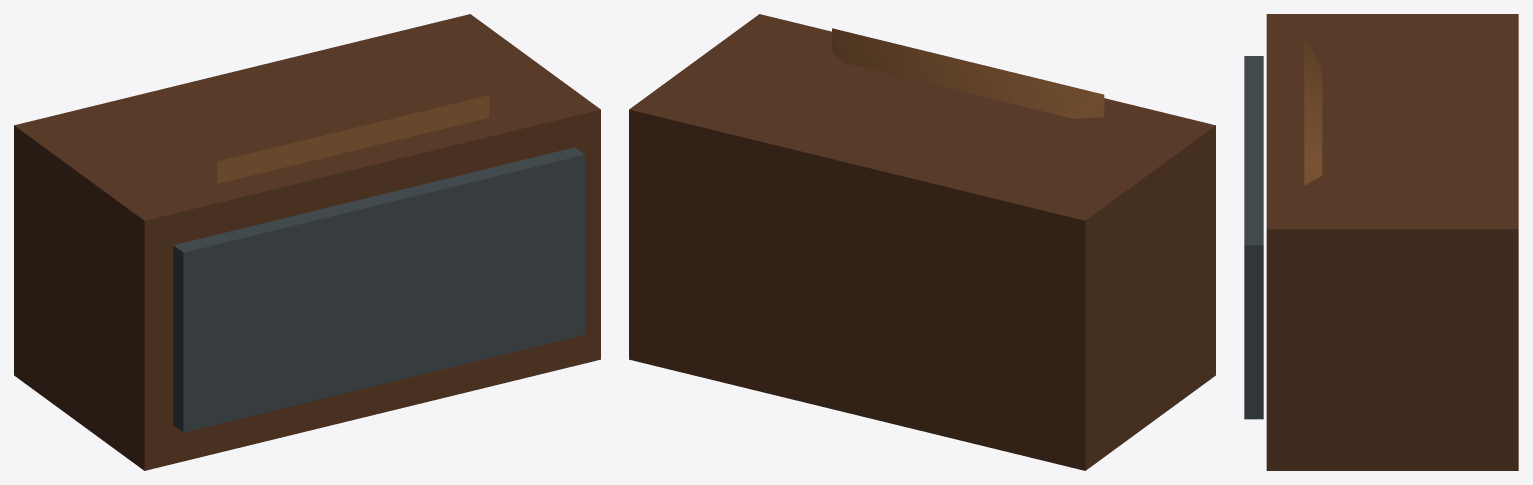
File: wooden-mid-horn.glb
3 views of the same model, side by side, from view 1: azimuth 30°, elevation 25°; view 2: azimuth 150°, elevation 25°; view 3: azimuth 270°, elevation 25° (orthographic). The views are drawn at different scales.
Visible parts, largest first — view 1: Cabinet, HornFrame, HornFlare; view 2: Cabinet, HornFlare; view 3: Cabinet, HornFrame, HornFlare.
Part boxes in pixels (x1,y1,x2,y2): Cabinet: (14, 14, 600, 470); HornFrame: (173, 147, 584, 432); HornFlare: (217, 95, 489, 183); Cabinet: (629, 14, 1215, 470); HornFlare: (832, 28, 1104, 118); Cabinet: (1266, 14, 1518, 470); HornFrame: (1244, 56, 1263, 419); HornFlare: (1304, 36, 1322, 185).
Bounding box in the file's own units: 1.05 × 0.6272 × 0.566.
